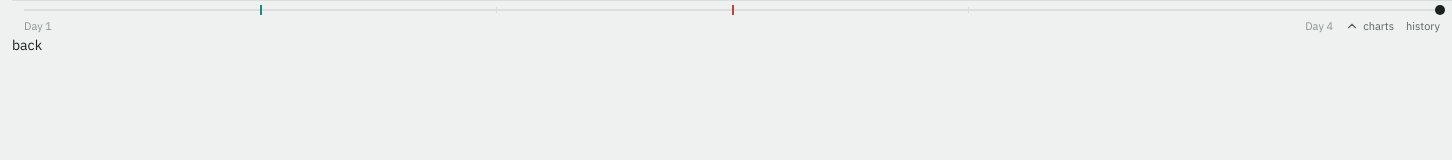
Test: the tracks › leaves them to History, which is already the tracks at full height
Click the button "charts" at (1370, 26), box [1345, 19, 1394, 33]
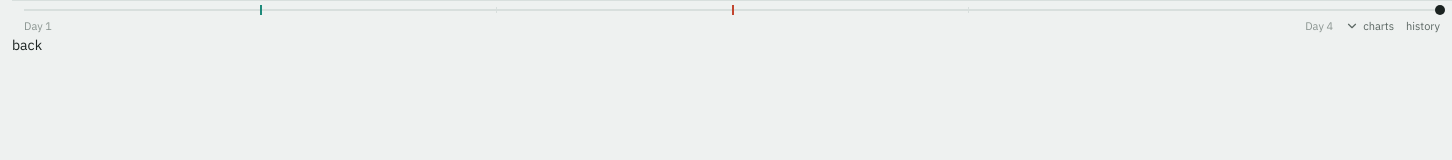
Check: the slider named "Run timeline" is shown, box [24, 3, 1440, 17]
Check: the button "charts" is expanded, box [1345, 19, 1394, 33]
